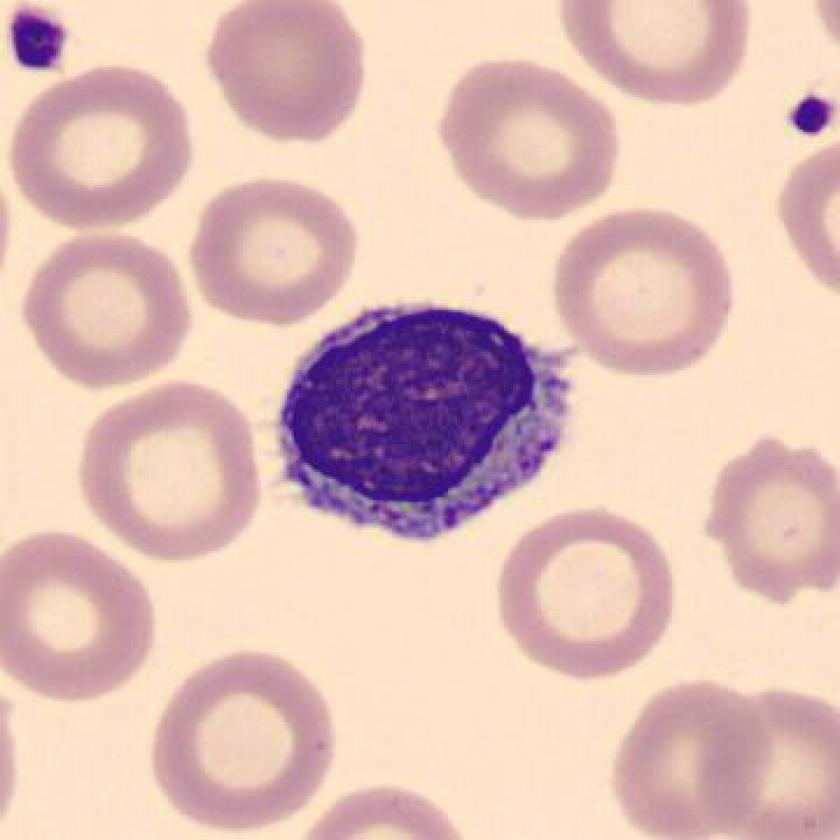lymphocyte: (253, 288, 598, 559)
